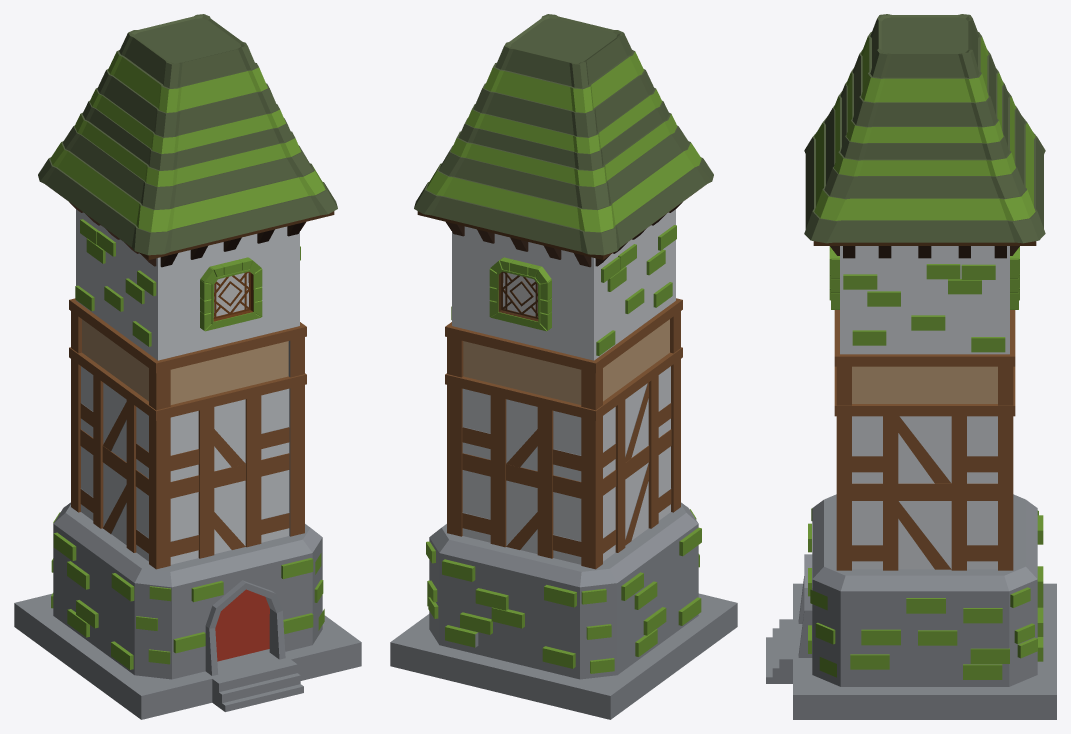
File: SM_Hous_18_A.gltf
3 renders of one model, left to right at view 1: azimuth 30°, elevation 25°; view 2: azimuth 150°, elevation 25°; view 3: azimuth 270°, elevation 25°, orthographic. The views are drawn at different scales.
Visible parts, largest first — view 1: SM_Hous_18_A; view 2: SM_Hous_18_A; view 3: SM_Hous_18_A.
Boxes of the visible parts, <box> form: SM_Hous_18_A: <box>14,14,361,719</box>; SM_Hous_18_A: <box>390,14,737,719</box>; SM_Hous_18_A: <box>766,14,1056,719</box>.
Bounding box in the file's own units: 6.23 × 16.39 × 6.86.
